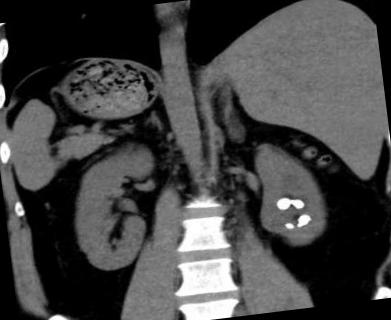Tas_Var: (294, 213, 312, 229), (274, 195, 291, 211), (289, 197, 305, 211), (282, 220, 294, 232)
